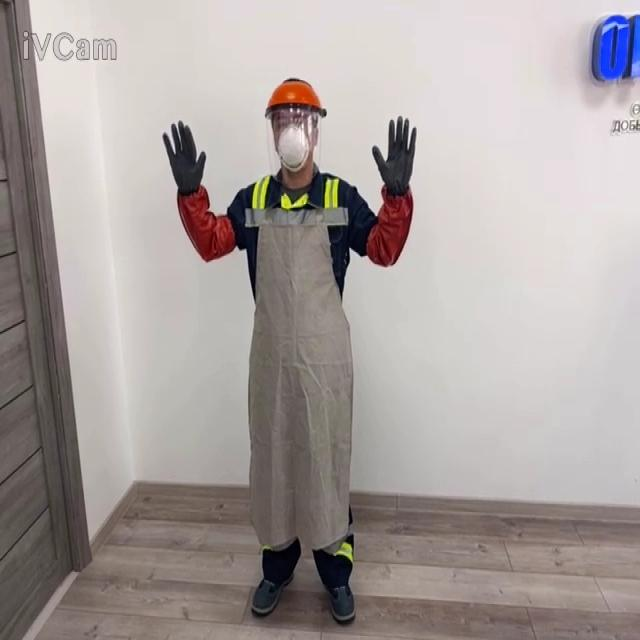Gloves: (371, 115, 416, 196), (161, 119, 206, 196)
Mask: (276, 120, 310, 172)
Protective apron: (245, 204, 354, 553)
Safety Shoes: (250, 570, 294, 614), (326, 582, 355, 622)
Sleeve: (176, 184, 236, 261), (365, 182, 413, 266)
